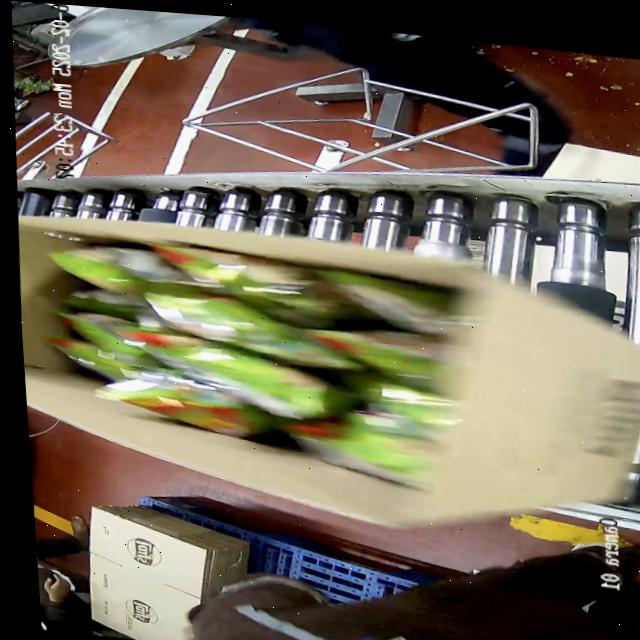YOGURT_HERB: (32, 237, 463, 459)
